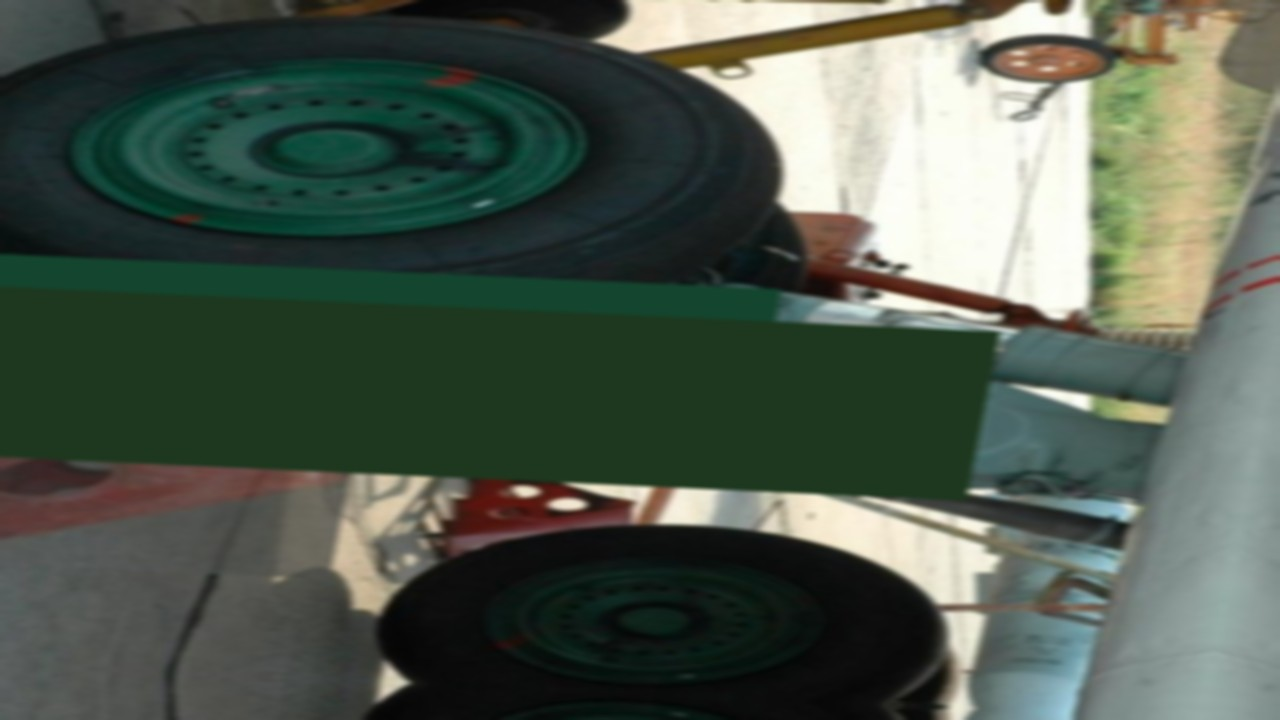chock: (0, 257, 390, 579), (0, 214, 225, 470)
wheel: (0, 0, 817, 356), (362, 513, 984, 708)
